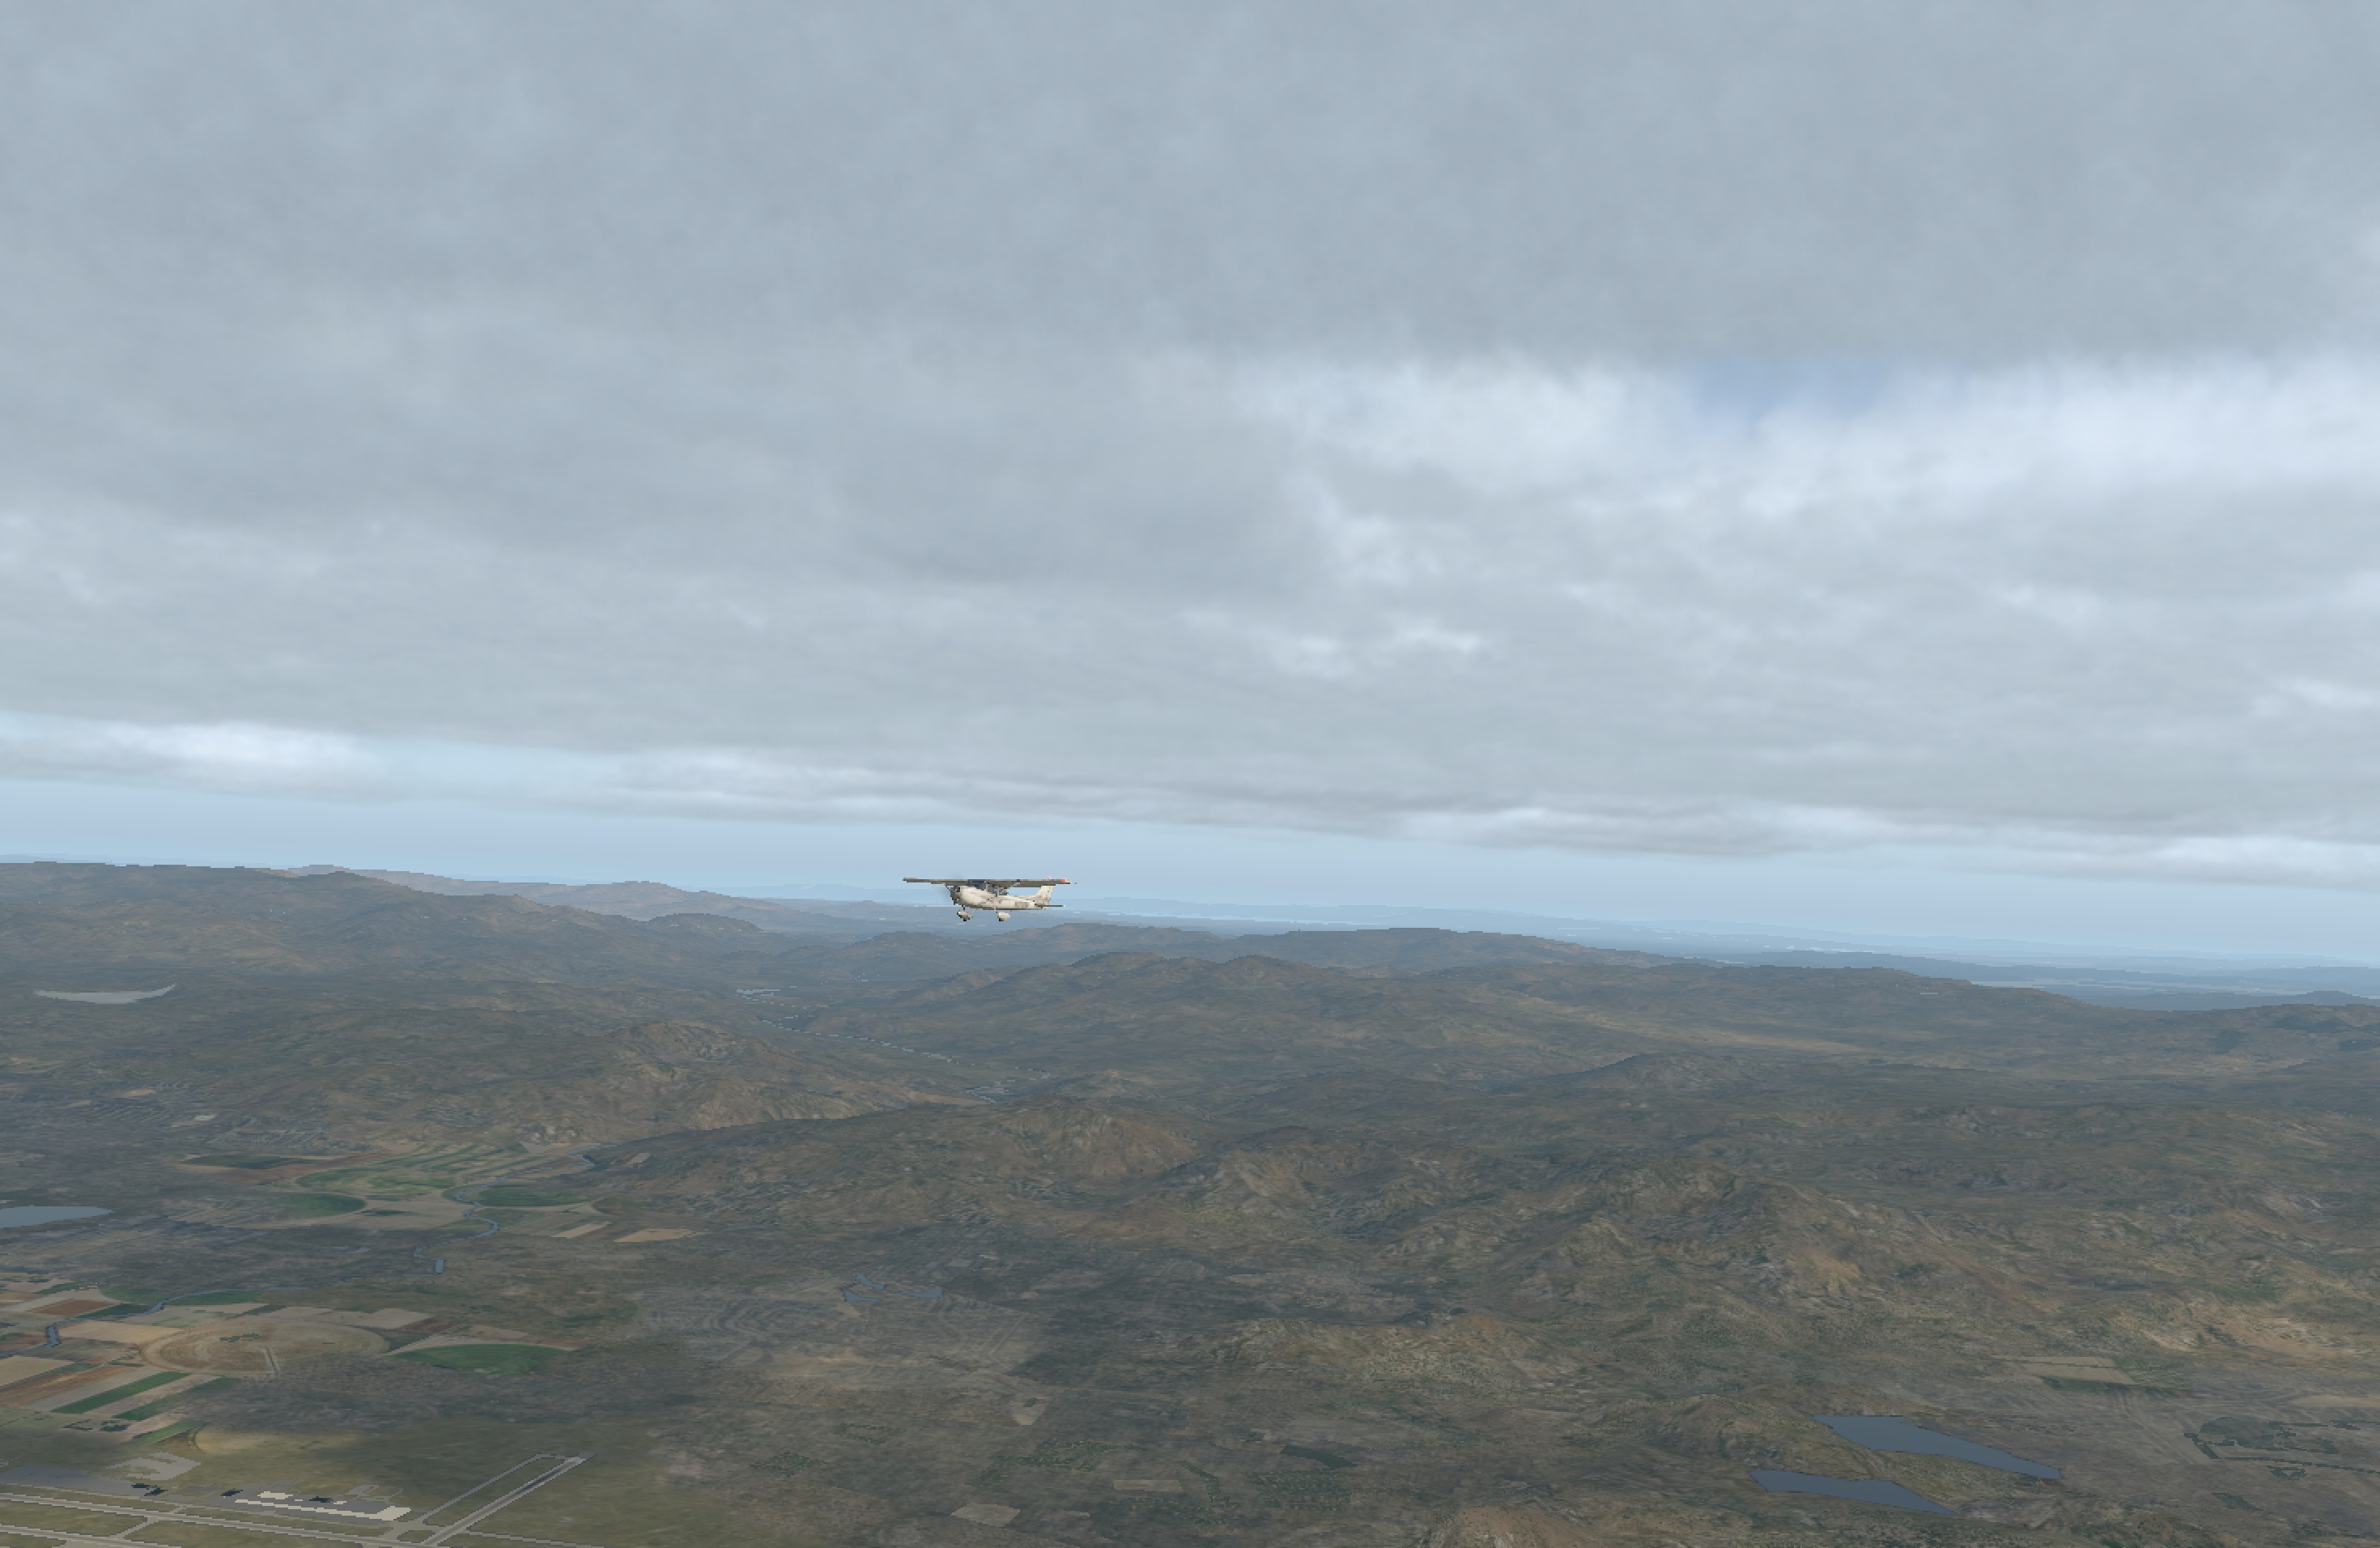aircraft: (906, 864, 1058, 923)
